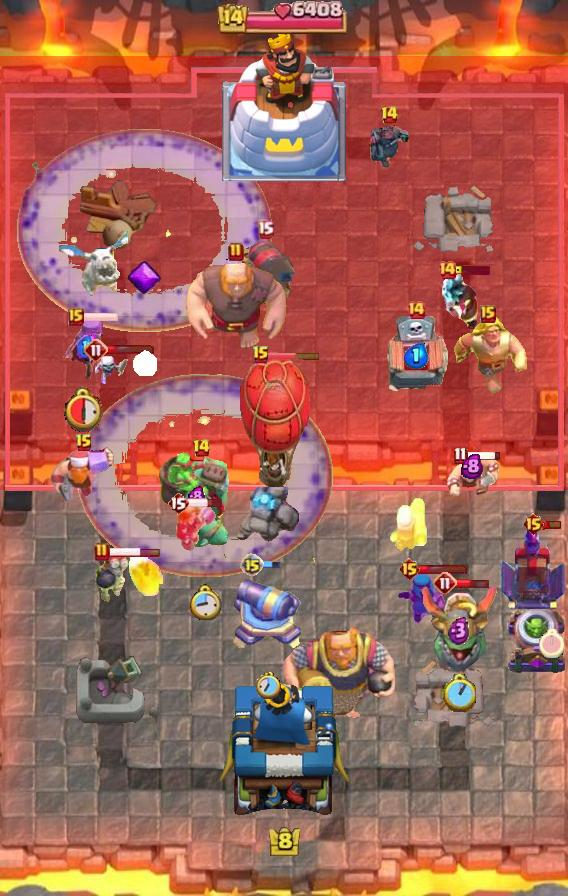archer: (444, 453, 500, 505)
balloon: (182, 259, 290, 351)
battle-ram: (366, 118, 412, 172)
cannon-cart: (239, 352, 311, 492)
clock: (217, 0, 351, 34)
electro-spirit: (403, 343, 428, 369), (448, 616, 470, 644), (461, 453, 483, 479), (77, 335, 94, 358), (187, 486, 204, 506)
elixir: (64, 385, 107, 431), (442, 674, 476, 712), (189, 584, 223, 620), (540, 630, 564, 658), (256, 672, 280, 700), (133, 349, 157, 376)
elixir-golem-mid: (381, 314, 451, 400)
emote: (105, 344, 155, 356), (107, 546, 161, 557), (418, 565, 468, 576), (267, 351, 321, 360), (454, 578, 490, 591), (187, 497, 225, 509), (81, 311, 118, 323), (466, 451, 503, 462), (454, 265, 490, 275), (542, 518, 562, 529), (262, 558, 281, 569)
giant-skeleton: (281, 621, 397, 721)
goblin-cage: (504, 606, 568, 676)
goblin-hut: (446, 316, 530, 394)
heal-spirit: (94, 353, 130, 387)
hog-rider: (175, 501, 217, 551)
ice-golem: (94, 549, 130, 603)
ice-spirit-evolution-symbol: (500, 525, 568, 611)
king-tower: (219, 678, 349, 826), (222, 31, 346, 181)
lava-hound: (157, 450, 245, 548)
lumberjack: (436, 272, 482, 332)
mighty-miner: (51, 444, 117, 508)
mini-pekka: (57, 231, 133, 303)
night-witch: (419, 583, 499, 673)
rascal-girl: (60, 313, 110, 383)
rocket: (17, 128, 273, 332), (77, 374, 333, 578)
royal-giant-evolution: (231, 237, 299, 307)
royal-recruit: (232, 569, 304, 653)
skeleton-king-skill: (126, 260, 162, 296)
text: (84, 338, 108, 362), (240, 553, 264, 577), (398, 557, 422, 581), (433, 571, 457, 595), (523, 512, 546, 536), (167, 491, 189, 515), (437, 260, 457, 280), (406, 300, 426, 320), (381, 105, 400, 125), (193, 438, 212, 458), (252, 345, 270, 365), (75, 433, 93, 453), (257, 220, 275, 239), (228, 242, 244, 262), (94, 542, 110, 562), (480, 305, 496, 323), (68, 308, 84, 326), (453, 447, 467, 466)
tombstone: (387, 495, 429, 553)
valkyrie: (127, 555, 165, 601)
valkyrie-evolution: (233, 486, 299, 548)
witch: (397, 574, 451, 626)
